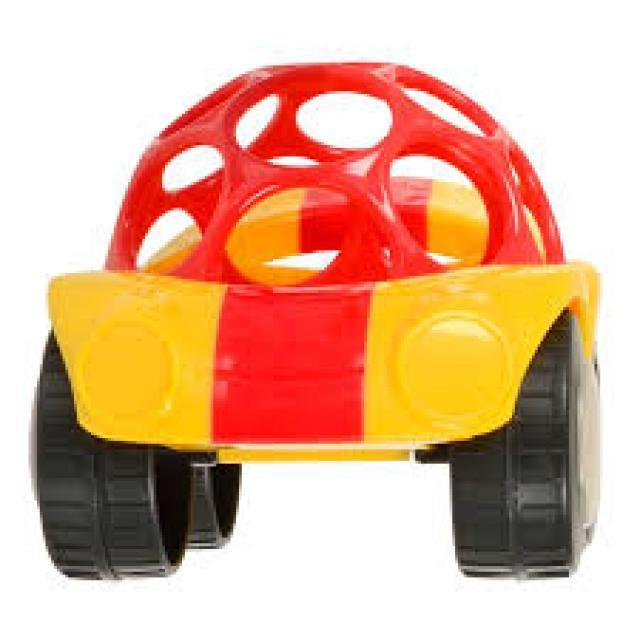hard-toy: (37, 64, 599, 578)
